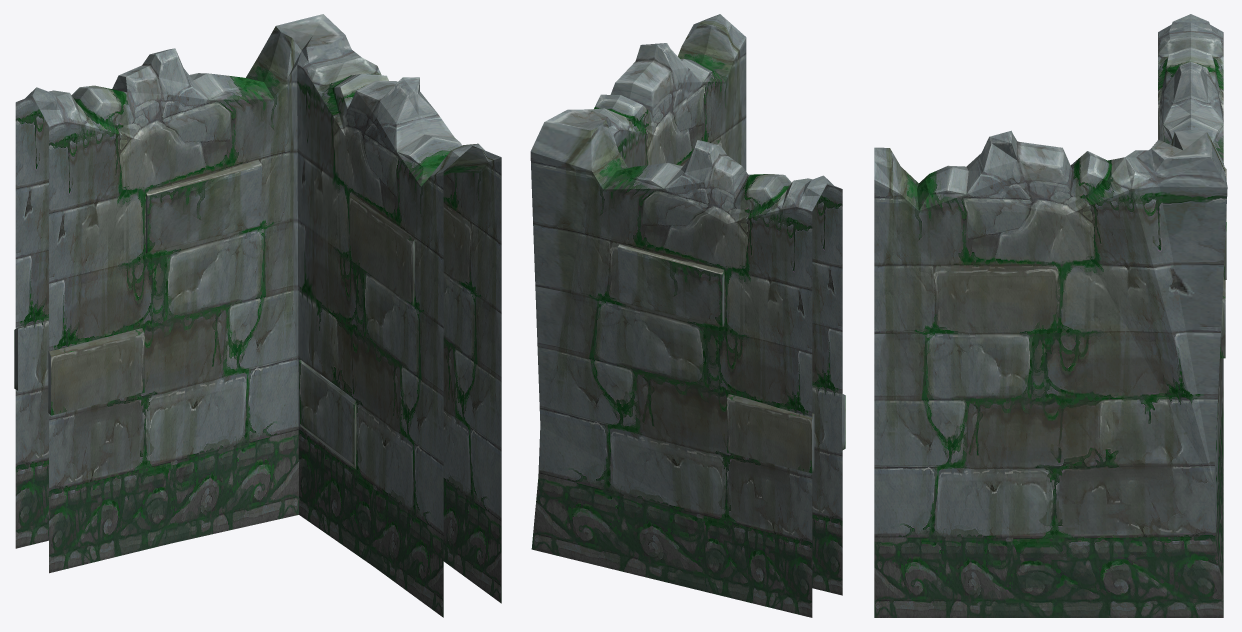
File: stemple_wall_concave_01.fbx
The picture shows the model from 3 angles, left to right: view 1: azimuth 30°, elevation 25°; view 2: azimuth 150°, elevation 25°; view 3: azimuth 270°, elevation 25°; orthographic projection. The views are drawn at different scales.
Parts seen in each view (by area): view 1: obj0.028; view 2: obj0.028; view 3: obj0.028.
Part boxes in pixels (x1=…): obj0.028: x1=14, y1=14, x2=501, y2=617; obj0.028: x1=530, y1=14, x2=845, y2=617; obj0.028: x1=874, y1=14, x2=1227, y2=617.
Size of the model in its own units: 4.52 by 6.61 by 4.47.
